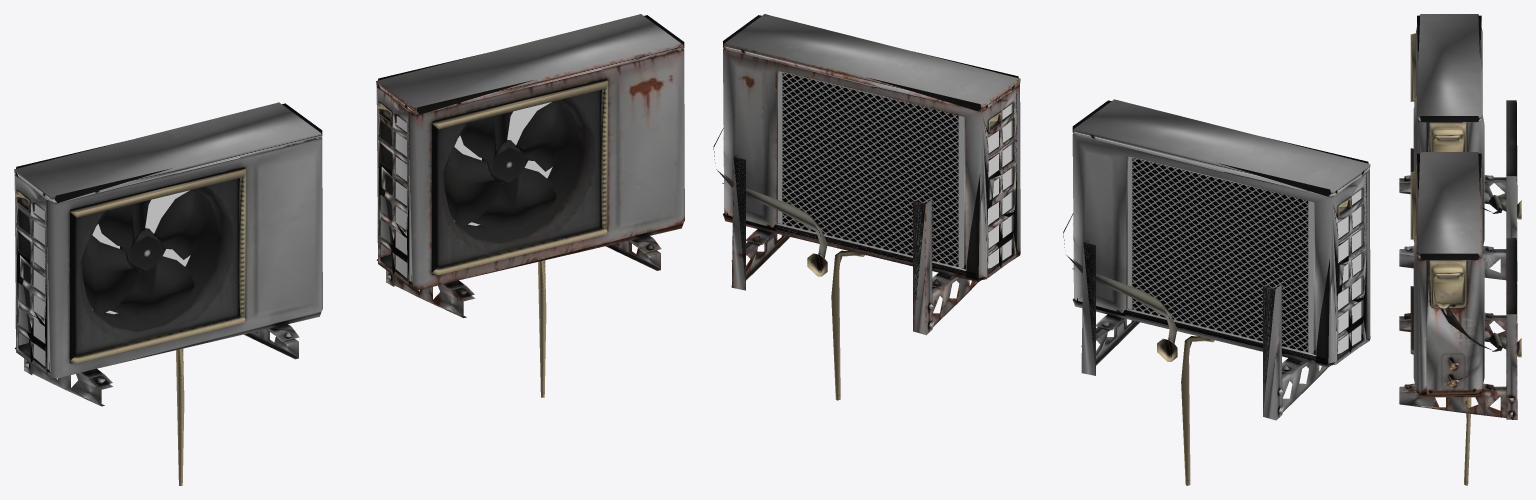
File: exterior_aircon_unit.glb
3 renders of one model, left to right at view 1: azimuth 30°, elevation 25°; view 2: azimuth 150°, elevation 25°; view 3: azimuth 270°, elevation 25°, orthographic. The views are drawn at different scales.
Visible parts, largest first — view 1: exterior_aircon_unit_rusted, exterior_aircon_unit; view 2: exterior_aircon_unit_rusted, exterior_aircon_unit; view 3: exterior_aircon_unit_rusted, exterior_aircon_unit.
Part boxes in pixels (left/top/right/bottom): exterior_aircon_unit_rusted: left=376, top=14, right=684, bottom=397; exterior_aircon_unit: left=14, top=102, right=322, bottom=485; exterior_aircon_unit_rusted: left=713, top=14, right=1020, bottom=400; exterior_aircon_unit: left=1063, top=99, right=1370, bottom=485; exterior_aircon_unit_rusted: left=1399, top=152, right=1521, bottom=485; exterior_aircon_unit: left=1399, top=14, right=1521, bottom=282.
Bounding box in the file's own units: 1.8 × 0.9228 × 0.3742.
Materials: 4 (4 with a texture image).
